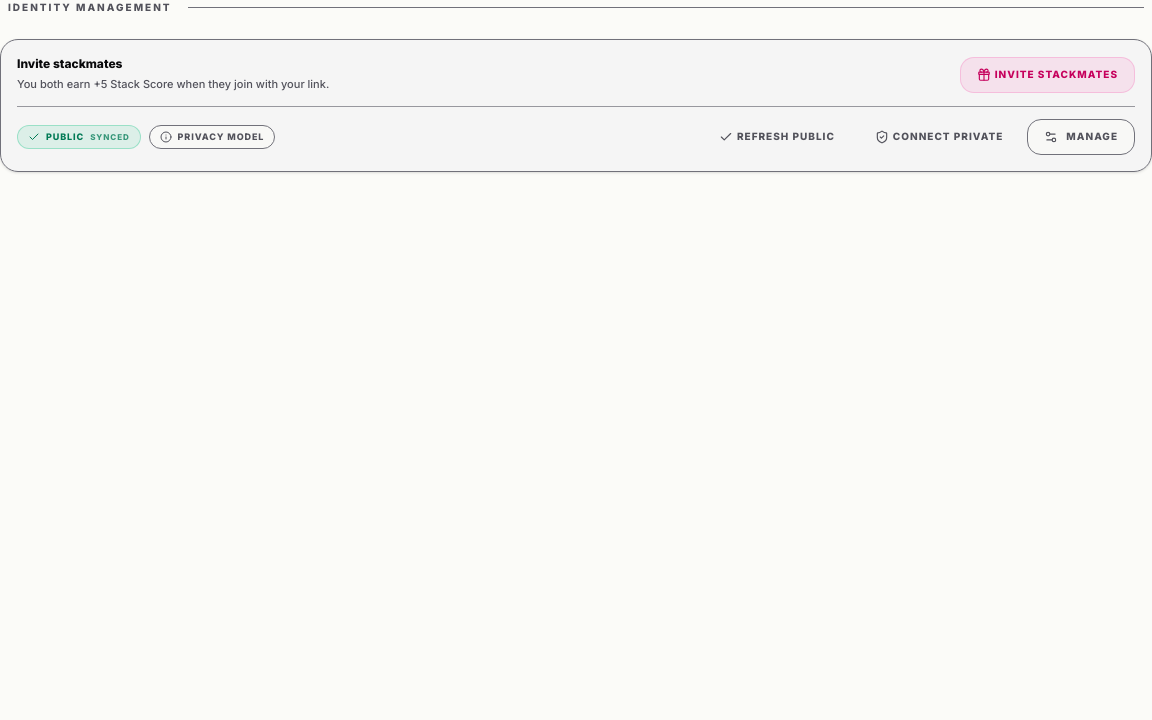
Test: OwnerActionsPanel › opens the invite modal from the nudge
This screenshot has width=1152, height=720.
Click the button "Invite stackmates". click: coordinates (1047, 75)
box: [960,57,1135,93]
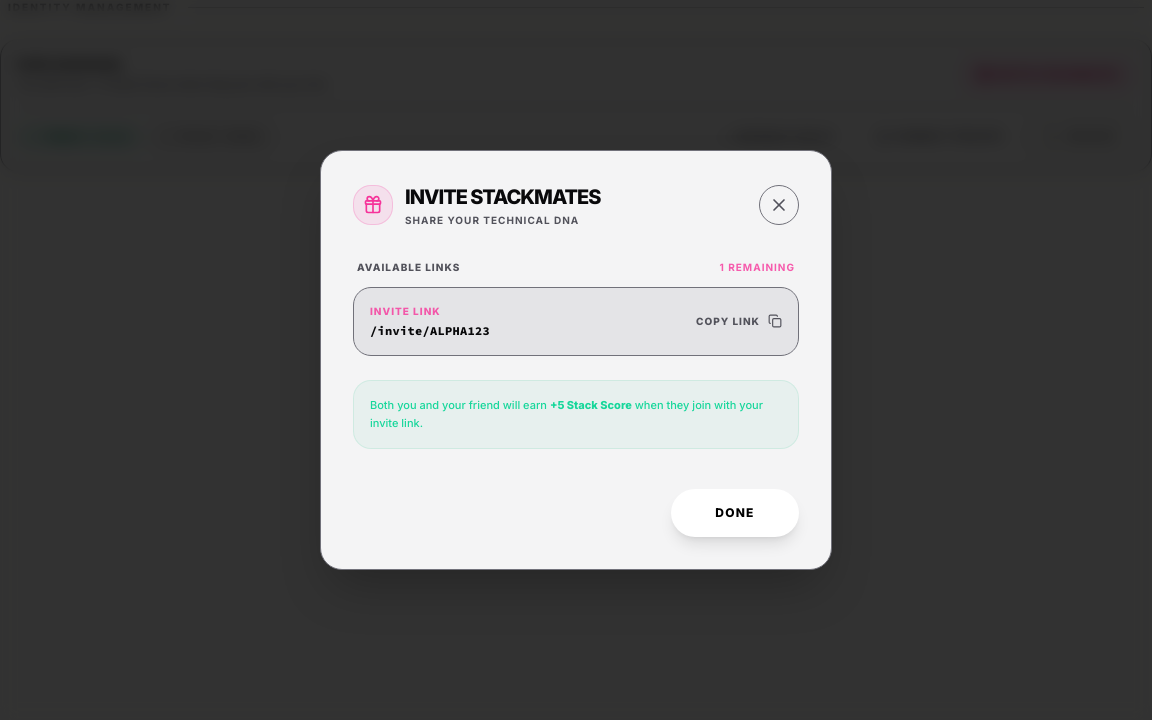
Expected: the heading "Invite stackmates" is shown, [405,183,600,211]
